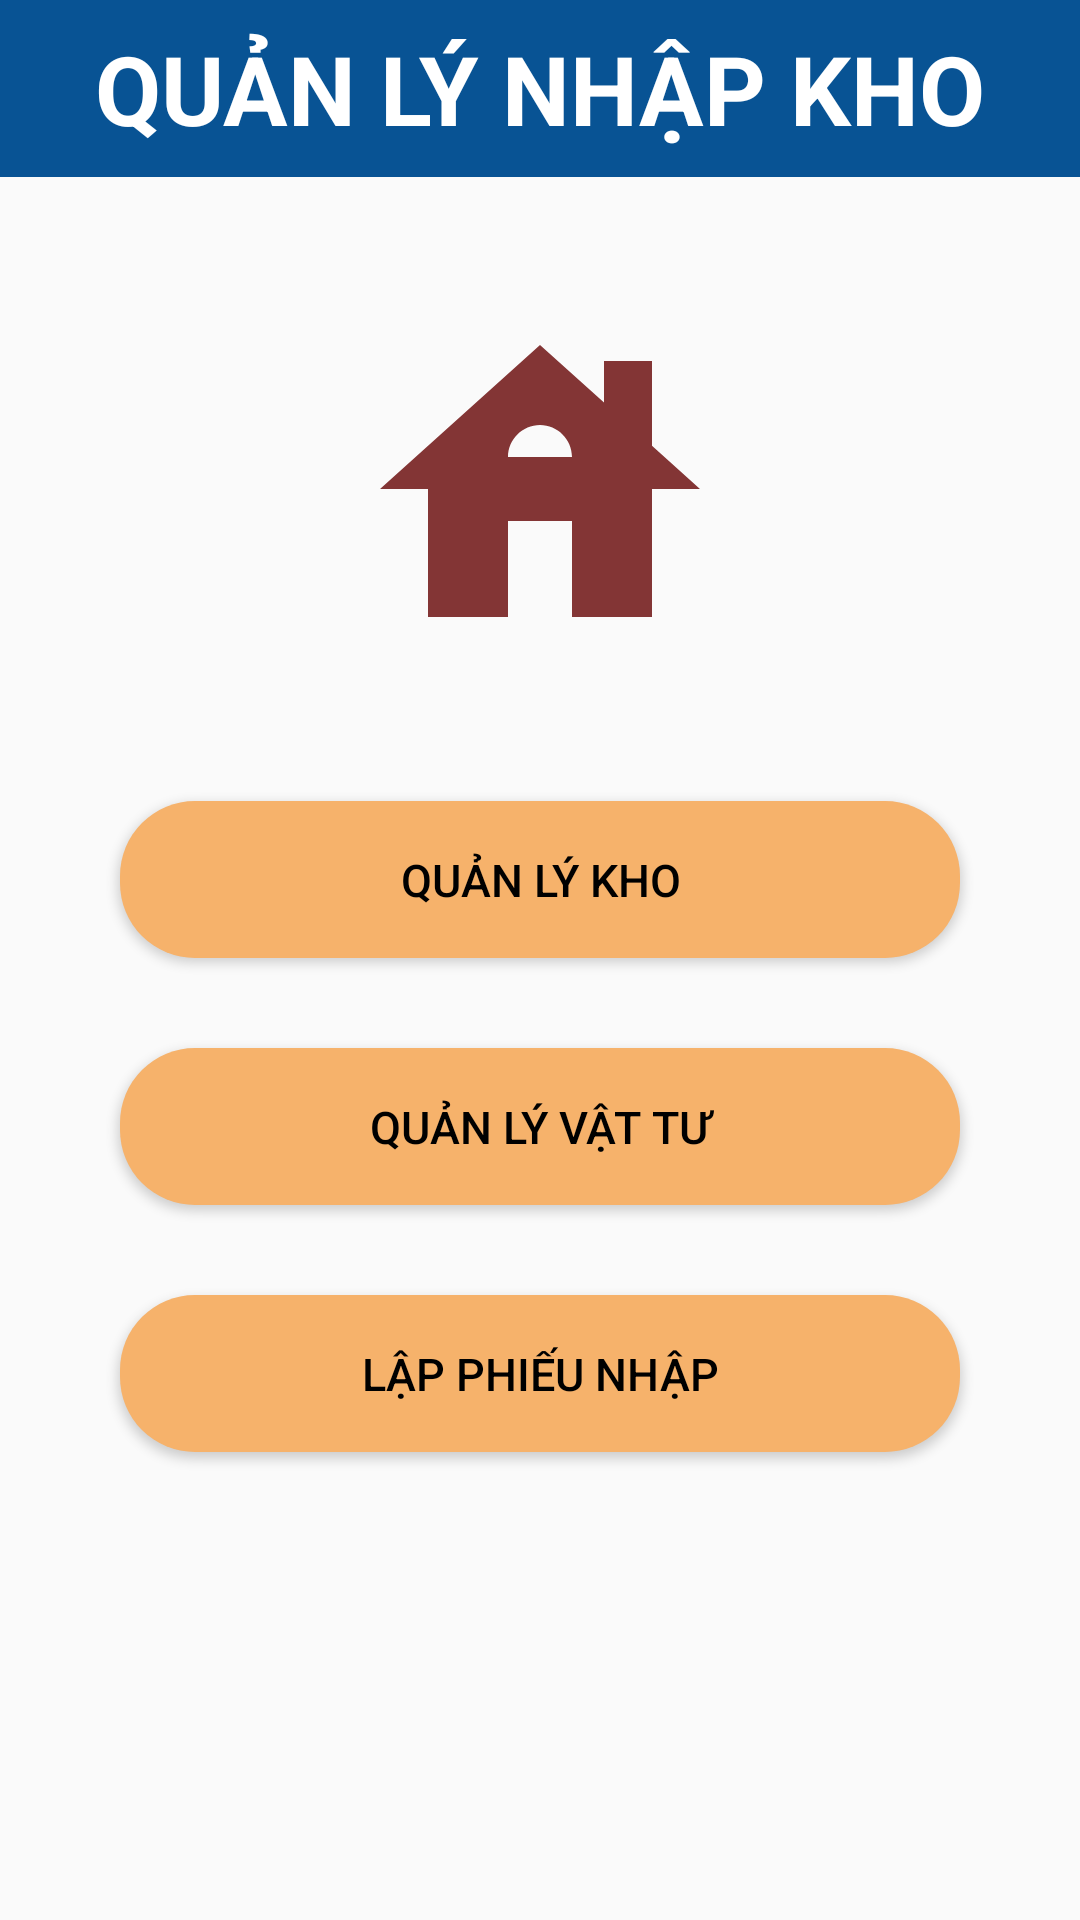

Screen size 1080w x 1920h. Icon name, then its box in pixels as {"left": x1, "top": y1, "right": x2, "bottom": y2}:
house: {"left": 380, "top": 345, "right": 700, "bottom": 617}
